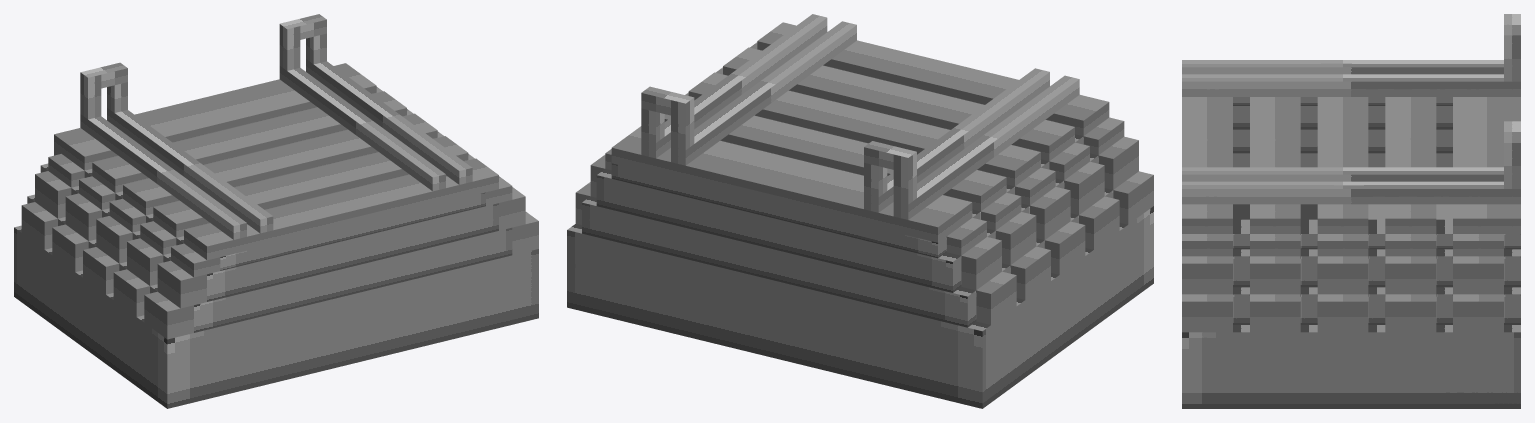
File: storage_rack.glb
3 views of the same model, side by side, from view 1: azimuth 30°, elevation 25°; view 2: azimuth 150°, elevation 25°; view 3: azimuth 270°, elevation 25° (orthographic). The views are drawn at different scales.
Parts seen in each view (by area): view 1: Storage_Rack; view 2: Storage_Rack; view 3: Storage_Rack.
Part boxes in pixels (<box>): Storage_Rack: <box>14,14,538,408</box>; Storage_Rack: <box>567,14,1153,408</box>; Storage_Rack: <box>1182,14,1520,408</box>.
Bounding box in the file's own units: 1.75 × 0.9375 × 1.25.
Materials: 1 (1 with a texture image).
